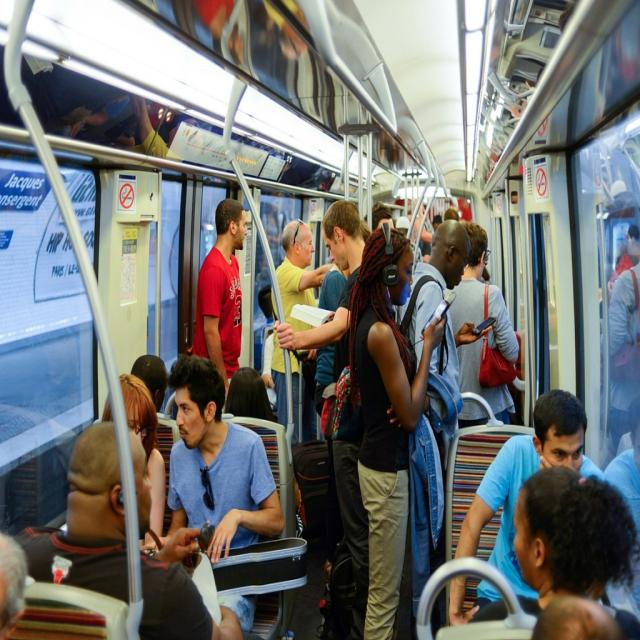body: (13, 420, 245, 640), (348, 226, 455, 640), (272, 199, 371, 640), (143, 352, 287, 640), (449, 389, 603, 626), (465, 462, 640, 639), (396, 216, 496, 443), (314, 216, 372, 560), (595, 137, 639, 523), (442, 221, 520, 430), (270, 218, 334, 447), (222, 364, 303, 544), (99, 373, 168, 554), (192, 198, 248, 412), (377, 189, 452, 261), (521, 596, 635, 639), (0, 532, 31, 638), (130, 354, 168, 414)
